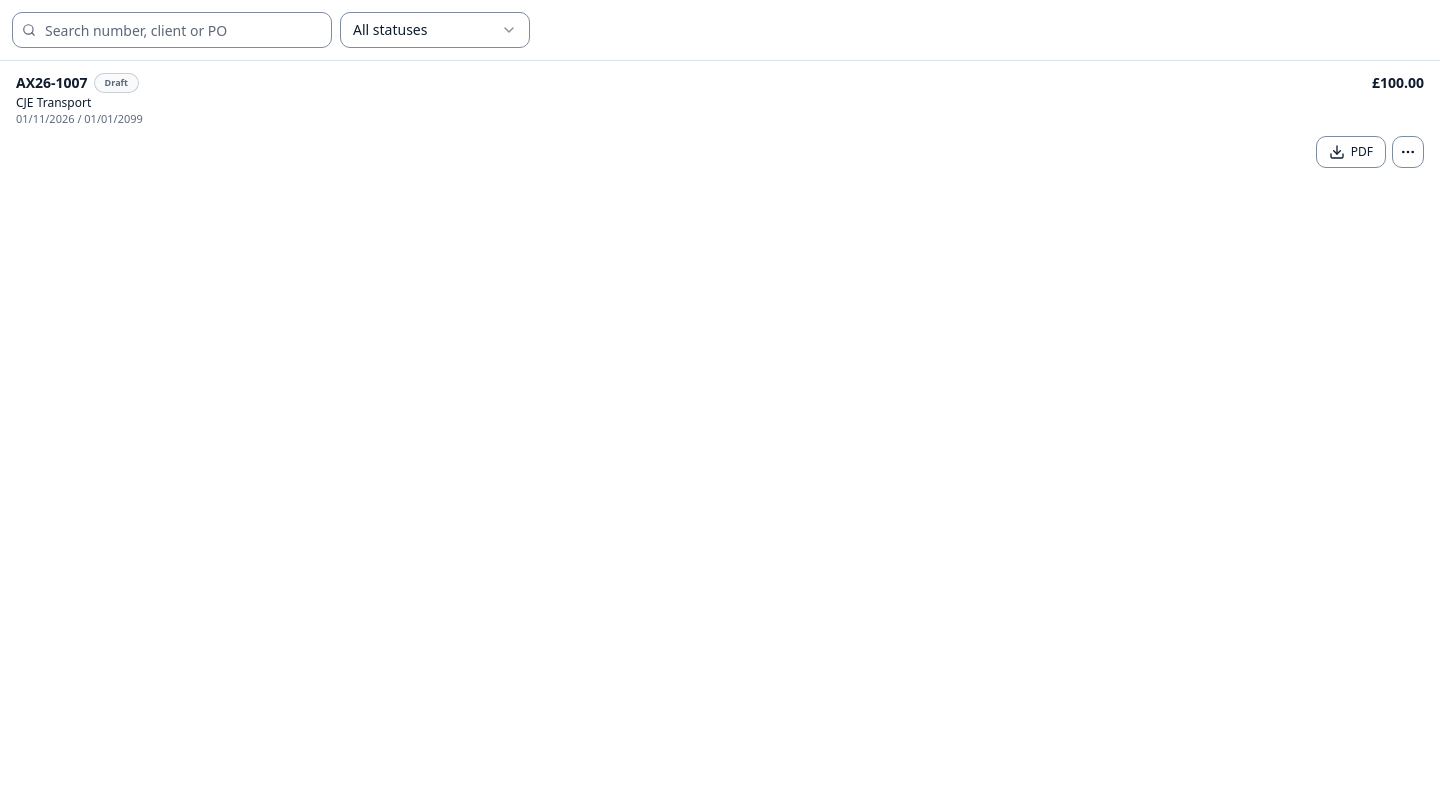
Test: invoice actions › keeps the invoice when the cancel dialog is dismissed
Press Enter in the button named "More actions for AX26-1007", box [1392,136,1424,168]
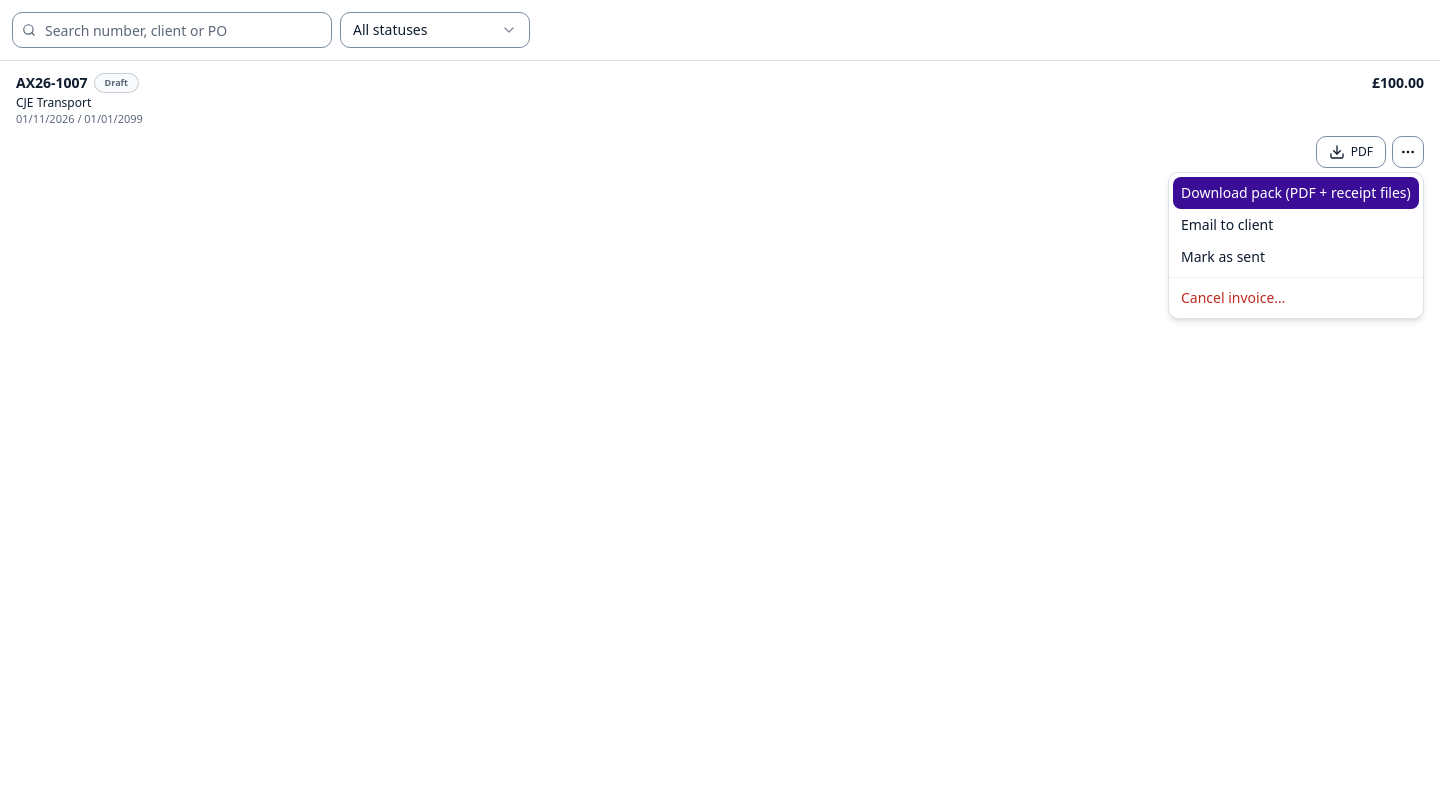
Click the menu item "Cancel invoice…" at (1233, 298), box [1181,288,1285,307]
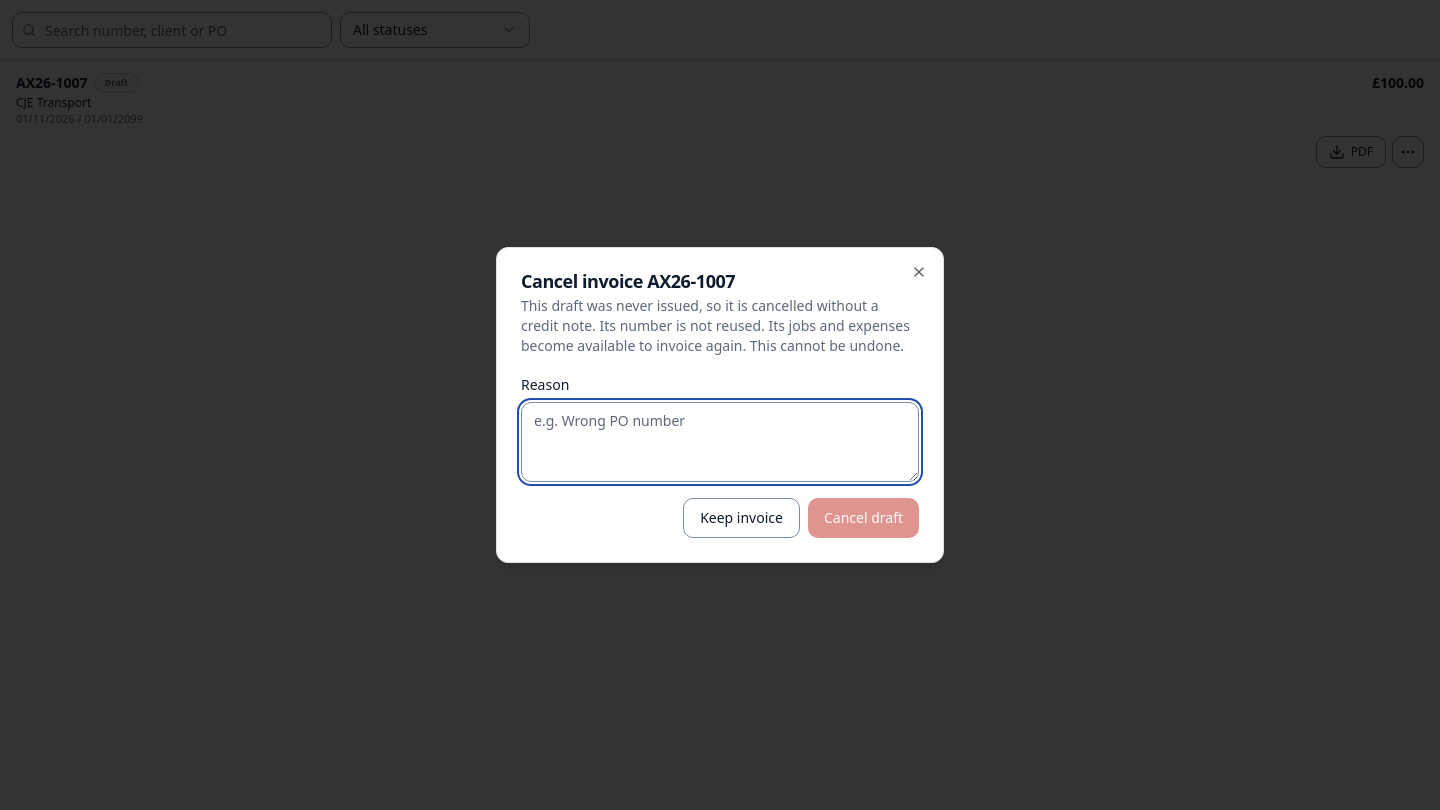
Click the button "Keep invoice" at (742, 518), box [683,498,800,538]
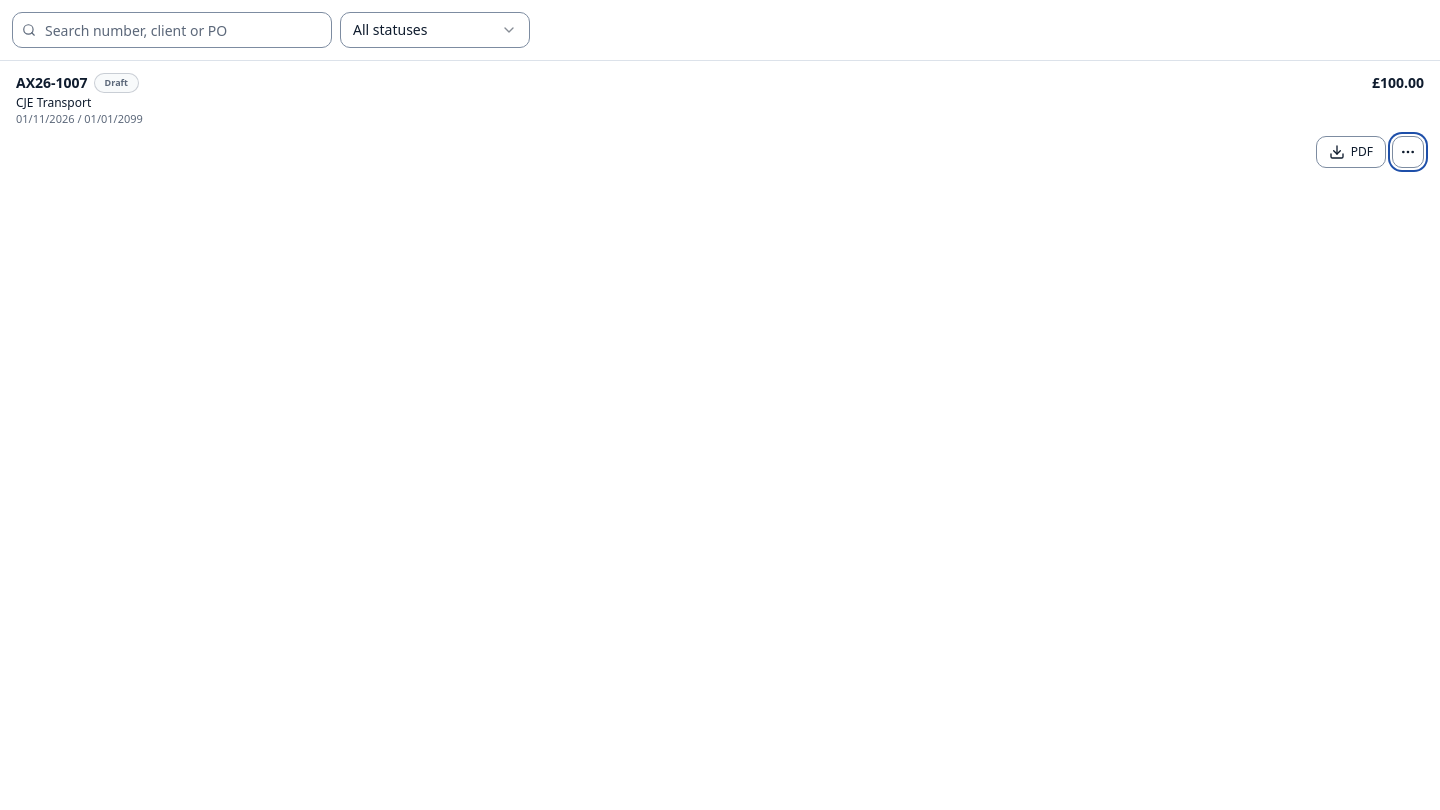
expect the dialog is gone: met
